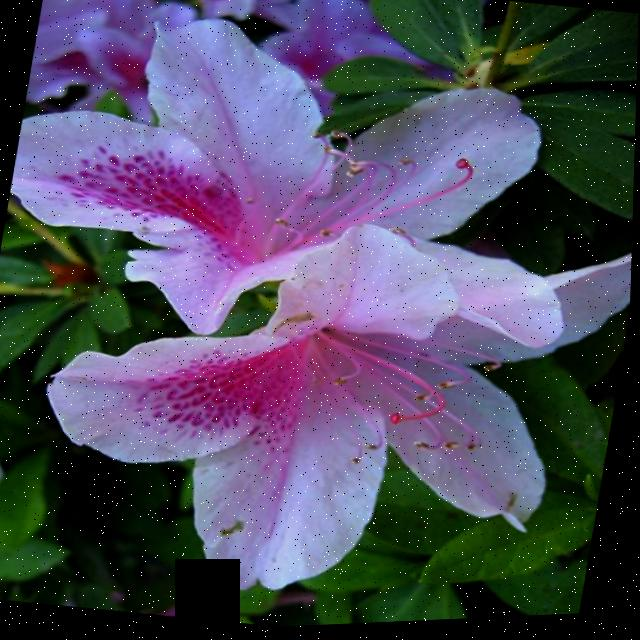azalea: (29, 217, 595, 623), (0, 0, 556, 399)
